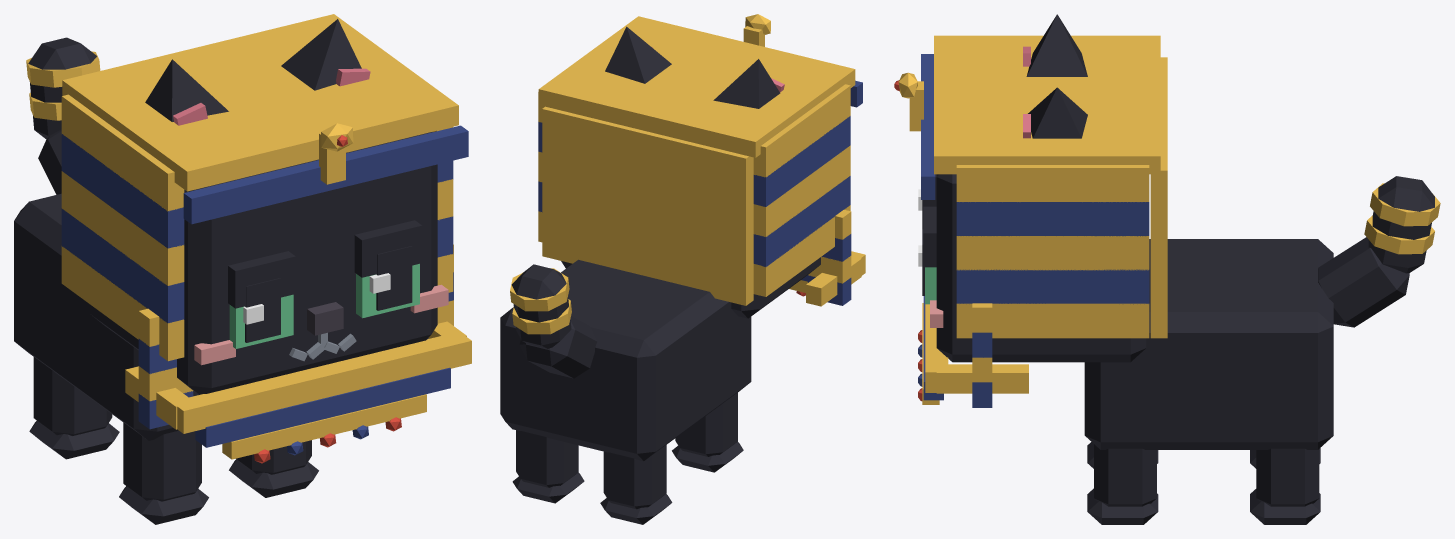
File: CatCafe_Cat_Pharaoh.glb
3 renders of one model, left to right at view 1: azimuth 30°, elevation 25°; view 2: azimuth 150°, elevation 25°; view 3: azimuth 270°, elevation 25°, orthographic. The views are drawn at different scales.
Visible parts, largest first — view 1: CatCafe_Cat_Pharaoh_Prop, CatCafe_Cat_Pharaoh_Head, CatCafe_Cat_Pharaoh_Prop2, CatCafe_Cat_Pharaoh_Body, CatCafe_Cat_Pharaoh_LegF2, CatCafe_Cat_Pharaoh_Eye1, CatCafe_Cat_Pharaoh_Eye2, CatCafe_Cat_Pharaoh_LegB2, CatCafe_Cat_Pharaoh_Tail, CatCafe_Cat_Pharaoh_EarL, CatCafe_Cat_Pharaoh_LegF1, CatCafe_Cat_Pharaoh_EarR (+1 smaller); view 2: CatCafe_Cat_Pharaoh_Prop, CatCafe_Cat_Pharaoh_Body, CatCafe_Cat_Pharaoh_Tail, CatCafe_Cat_Pharaoh_LegB2, CatCafe_Cat_Pharaoh_LegB1, CatCafe_Cat_Pharaoh_LegF2, CatCafe_Cat_Pharaoh_EarL, CatCafe_Cat_Pharaoh_Tail_Cuffs, CatCafe_Cat_Pharaoh_EarR, CatCafe_Cat_Pharaoh_Prop2, CatCafe_Cat_Pharaoh_Head; view 3: CatCafe_Cat_Pharaoh_Prop, CatCafe_Cat_Pharaoh_Body, CatCafe_Cat_Pharaoh_Head, CatCafe_Cat_Pharaoh_Tail, CatCafe_Cat_Pharaoh_LegB1, CatCafe_Cat_Pharaoh_LegF1, CatCafe_Cat_Pharaoh_Prop2, CatCafe_Cat_Pharaoh_EarR, CatCafe_Cat_Pharaoh_Tail_Cuffs, CatCafe_Cat_Pharaoh_EarL, CatCafe_Cat_Pharaoh_Eye1.
Boxes of the visible parts, x1=… form: CatCafe_Cat_Pharaoh_Prop: x1=61, y1=14, x2=468, y2=429; CatCafe_Cat_Pharaoh_Head: x1=89, y1=132, x2=448, y2=394; CatCafe_Cat_Pharaoh_Prop2: x1=125, y1=321, x2=471, y2=463; CatCafe_Cat_Pharaoh_Body: x1=14, y1=193, x2=198, y2=440; CatCafe_Cat_Pharaoh_LegF2: x1=119, y1=422, x2=208, y2=524; CatCafe_Cat_Pharaoh_Eye1: x1=354, y1=220, x2=422, y2=318; CatCafe_Cat_Pharaoh_Eye2: x1=228, y1=251, x2=295, y2=348; CatCafe_Cat_Pharaoh_LegB2: x1=29, y1=357, x2=119, y2=459; CatCafe_Cat_Pharaoh_Tail: x1=28, y1=37, x2=96, y2=194; CatCafe_Cat_Pharaoh_EarL: x1=281, y1=19, x2=370, y2=90; CatCafe_Cat_Pharaoh_LegF1: x1=229, y1=440, x2=318, y2=497; CatCafe_Cat_Pharaoh_EarR: x1=145, y1=59, x2=228, y2=125; CatCafe_Cat_Pharaoh_Prop: x1=538, y1=14, x2=862, y2=305; CatCafe_Cat_Pharaoh_Body: x1=500, y1=259, x2=751, y2=461; CatCafe_Cat_Pharaoh_Tail: x1=511, y1=264, x2=597, y2=378; CatCafe_Cat_Pharaoh_LegB2: x1=600, y1=445, x2=672, y2=524; CatCafe_Cat_Pharaoh_LegB1: x1=512, y1=430, x2=584, y2=503; CatCafe_Cat_Pharaoh_LegF2: x1=672, y1=392, x2=743, y2=472; CatCafe_Cat_Pharaoh_EarL: x1=605, y1=26, x2=671, y2=83; CatCafe_Cat_Pharaoh_Tail_Cuffs: x1=510, y1=268, x2=571, y2=334; CatCafe_Cat_Pharaoh_EarR: x1=713, y1=59, x2=784, y2=108; CatCafe_Cat_Pharaoh_Prop2: x1=789, y1=251, x2=865, y2=306; CatCafe_Cat_Pharaoh_Head: x1=561, y1=257, x2=820, y2=318; CatCafe_Cat_Pharaoh_Prop: x1=894, y1=35, x2=1167, y2=407; CatCafe_Cat_Pharaoh_Body: x1=1084, y1=239, x2=1333, y2=449; CatCafe_Cat_Pharaoh_Head: x1=930, y1=174, x2=1146, y2=362; CatCafe_Cat_Pharaoh_Tail: x1=1318, y1=176, x2=1434, y2=327; CatCafe_Cat_Pharaoh_LegB1: x1=1250, y1=448, x2=1320, y2=524; CatCafe_Cat_Pharaoh_LegF1: x1=1087, y1=444, x2=1158, y2=524; CatCafe_Cat_Pharaoh_Prop2: x1=918, y1=296, x2=1028, y2=404; CatCafe_Cat_Pharaoh_EarR: x1=1023, y1=14, x2=1087, y2=76; CatCafe_Cat_Pharaoh_Tail_Cuffs: x1=1364, y1=183, x2=1440, y2=254; CatCafe_Cat_Pharaoh_EarL: x1=1023, y1=87, x2=1087, y2=138; CatCafe_Cat_Pharaoh_Eye1: x1=918, y1=206, x2=936, y2=304.
Bounding box in the file's own units: 1.22 × 1.86 × 2.08.
Materials: 1 (1 with a texture image).
